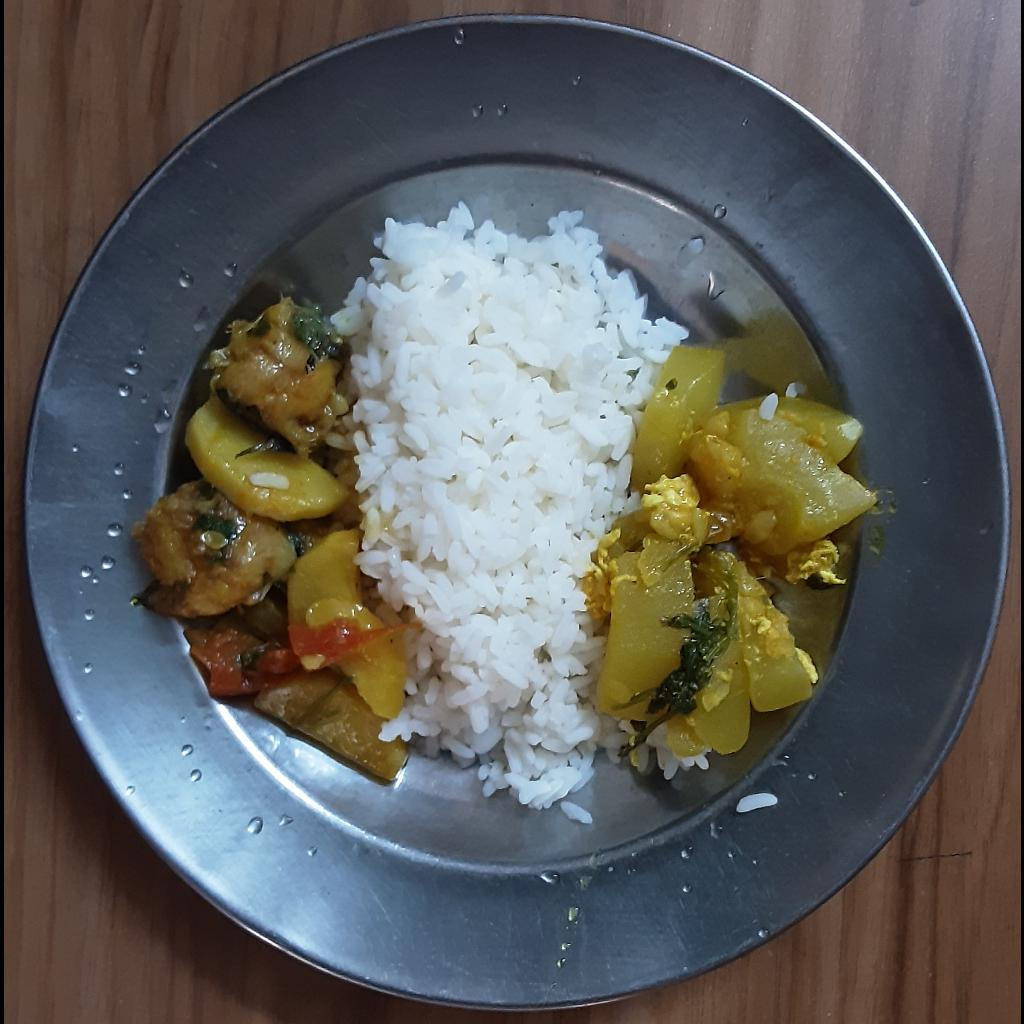egg: (585, 531, 611, 633), (637, 472, 698, 507)
fish: (199, 295, 352, 451), (134, 475, 298, 615)
lau: (588, 341, 875, 761)
potato: (186, 402, 383, 631), (250, 643, 403, 790)
rice: (321, 200, 711, 823)
shim: (201, 595, 283, 638), (135, 585, 178, 618)
tomato: (176, 623, 388, 697)
